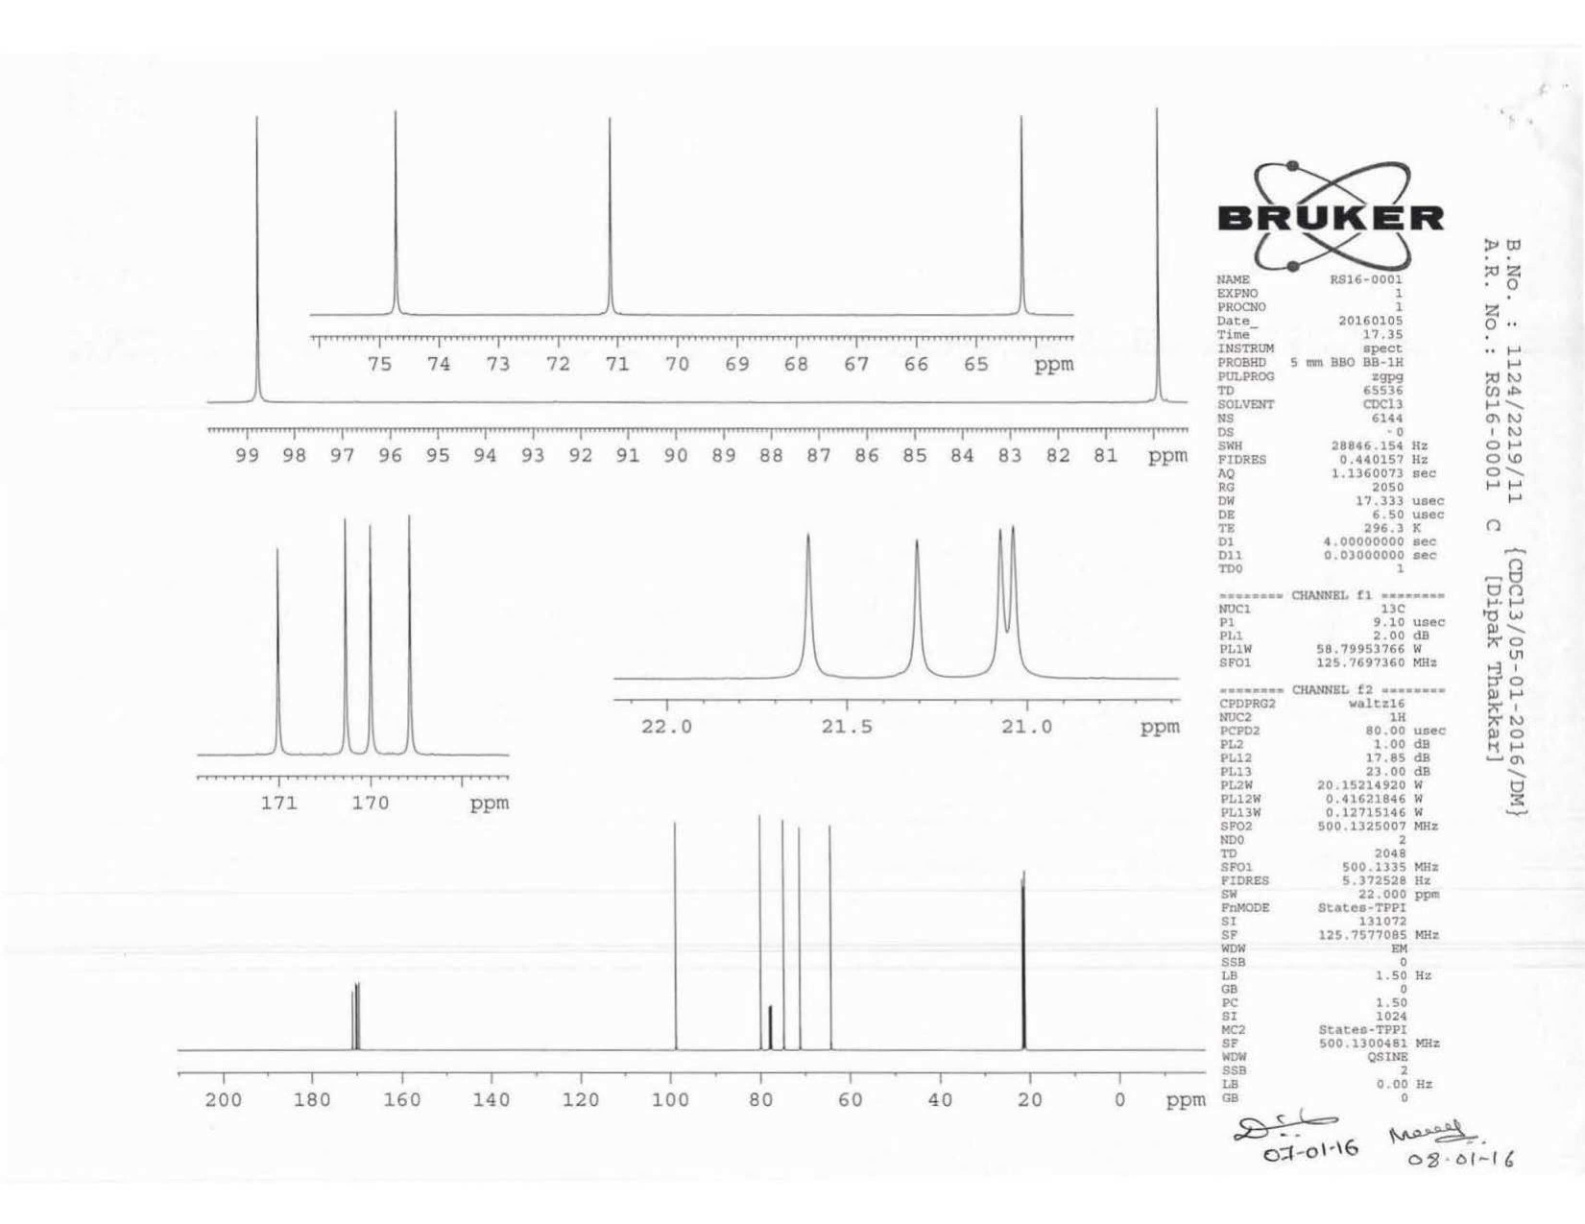nolines: (1217, 271, 1451, 1104)
